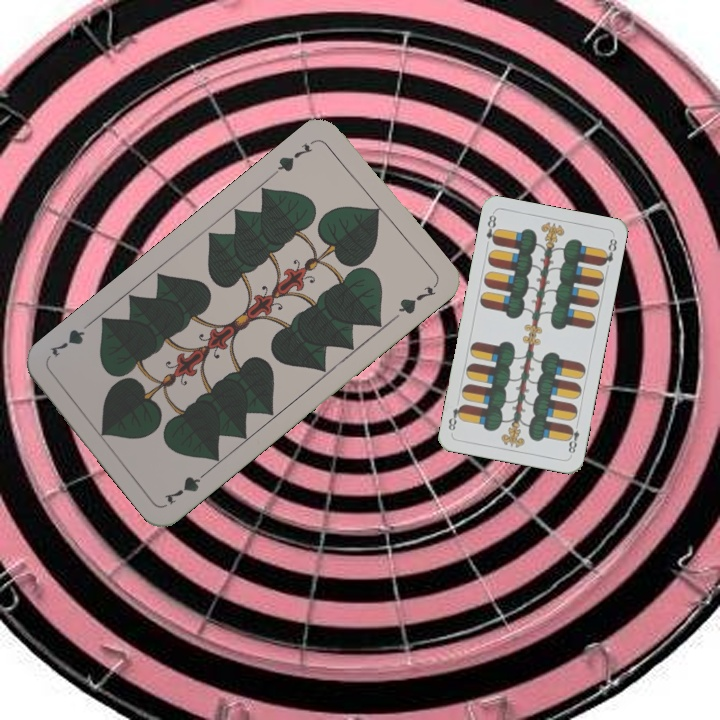E8: (563, 418, 582, 456), (482, 211, 501, 247)
G7: (160, 465, 213, 508), (269, 139, 315, 178)
